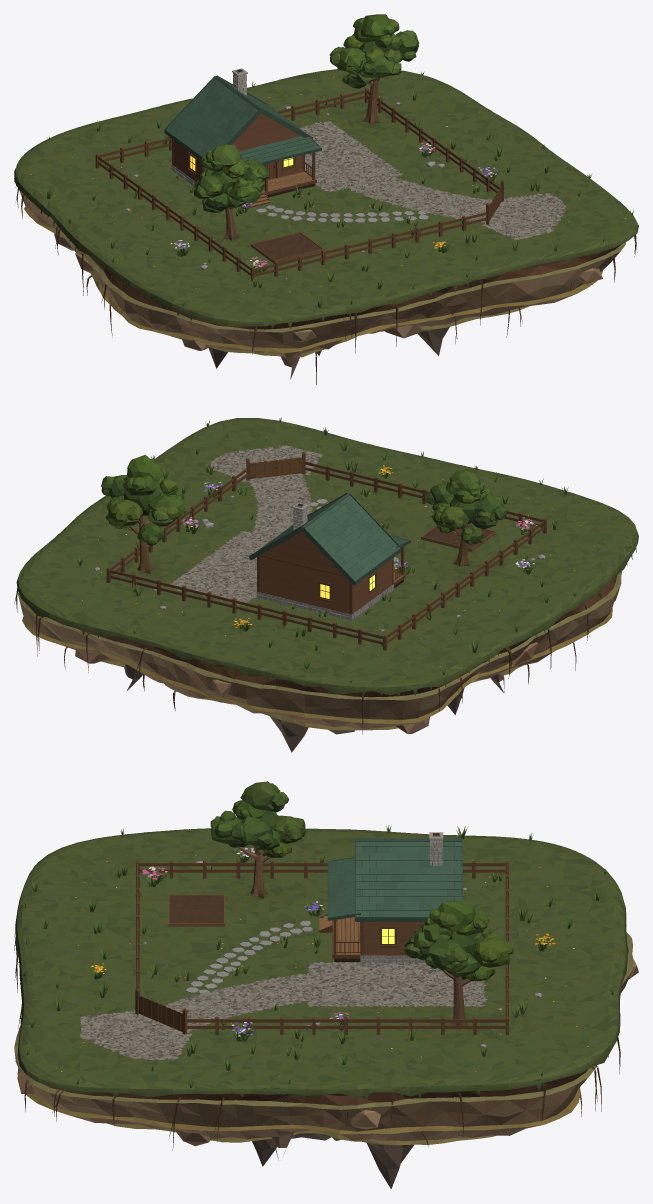
The model's file is home.web.glb.
3 renders of one model, top to bottom at view 1: azimuth 30°, elevation 25°; view 2: azimuth 150°, elevation 25°; view 3: azimuth 270°, elevation 25°, orthographic. The views are drawn at different scales.
Parts seen in each view (by area): view 1: Ground, Island_Underside, Gravel_Drive_Parking, Fence, Cabin_Roof, Tree_2, Tree_1, Gravel_Apron, Cabin_WallsExterior, Yard_Grass, Yard_VegetableBed, Cabin_PorchRoof (+4 smaller); view 2: Ground, Island_Underside, Fence, Gravel_Drive_Parking, Cabin_WallsExterior, Cabin_Roof, Tree_2, Tree_1, Yard_Grass, Gravel_Apron, Yard_Flowers, Island_HangingRoots (+2 smaller); view 3: Ground, Island_Underside, Gravel_Drive_Parking, Cabin_Roof, Tree_2, Fence, Tree_1, Gravel_Apron, Yard_Grass, Yard_VegetableBed, Yard_Flowers, Cabin_PorchRoof (+4 smaller).
Boxes of the visible parts, bbox=[...] form: Ground: bbox=[16, 69, 637, 321]; Island_Underside: bbox=[14, 75, 638, 379]; Gravel_Drive_Parking: bbox=[299, 120, 497, 222]; Fence: bbox=[95, 88, 503, 282]; Cabin_Roof: bbox=[164, 75, 313, 159]; Tree_2: bbox=[329, 14, 419, 124]; Tree_1: bbox=[193, 143, 269, 240]; Gravel_Apron: bbox=[483, 193, 567, 239]; Cabin_WallsExterior: bbox=[172, 113, 304, 181]; Yard_Grass: bbox=[19, 71, 633, 307]; Yard_VegetableBed: bbox=[250, 232, 323, 263]; Cabin_PorchRoof: bbox=[239, 136, 321, 164]; Ground: bbox=[18, 418, 637, 687]; Island_Underside: bbox=[16, 443, 638, 752]; Fence: bbox=[106, 452, 546, 650]; Gravel_Drive_Parking: bbox=[169, 474, 312, 605]; Cabin_WallsExterior: bbox=[257, 532, 393, 614]; Cabin_Roof: bbox=[248, 492, 402, 585]; Tree_2: bbox=[101, 454, 185, 573]; Tree_1: bbox=[424, 470, 507, 567]; Yard_Grass: bbox=[20, 417, 631, 683]; Gravel_Apron: bbox=[206, 445, 322, 482]; Yard_Flowers: bbox=[44, 419, 594, 666]; Island_HangingRoots: bbox=[14, 588, 600, 734]; Ground: bbox=[17, 828, 625, 1089]; Island_Underside: bbox=[14, 829, 638, 1188]; Gravel_Drive_Parking: bbox=[142, 961, 487, 1032]; Cabin_Roof: bbox=[355, 838, 462, 921]; Tree_2: bbox=[404, 900, 513, 1029]; Fence: bbox=[135, 860, 508, 1034]; Tree_1: bbox=[210, 781, 305, 898]; Gravel_Apron: bbox=[80, 1011, 191, 1060]; Yard_Grass: bbox=[21, 825, 614, 1087]; Yard_VegetableBed: bbox=[168, 894, 224, 926]; Yard_Flowers: bbox=[61, 838, 588, 1076]; Cabin_PorchRoof: bbox=[327, 857, 360, 920].
Size of the model in its own units: 43.35 by 22.64 by 42.28.
